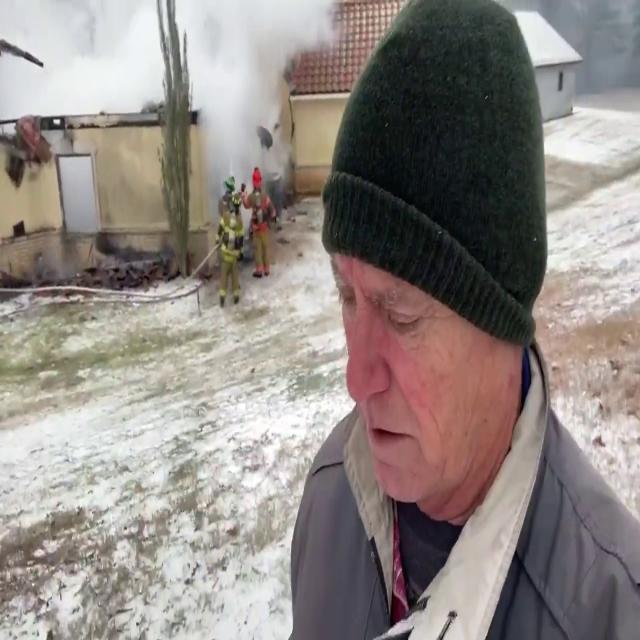Smoke: (0, 0, 333, 166)
